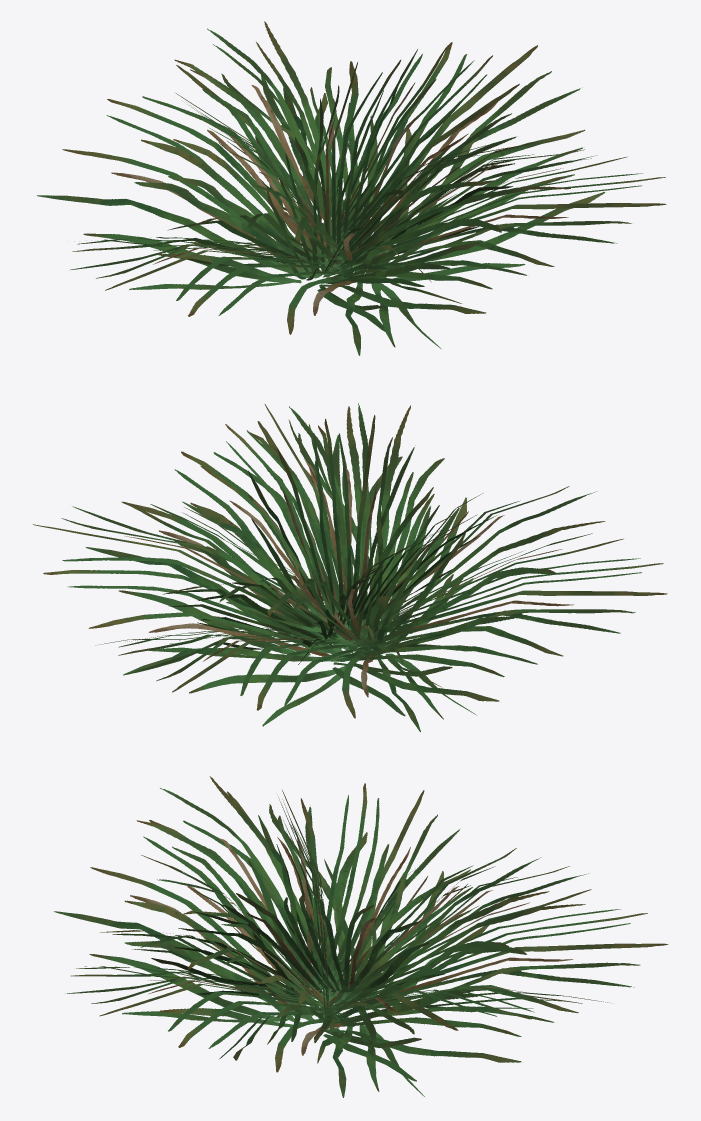
File: GrassBushel_Thin.FBX
3 renders of one model, top to bottom at view 1: azimuth 30°, elevation 25°; view 2: azimuth 150°, elevation 25°; view 3: azimuth 270°, elevation 25°, orthographic. The views are drawn at different scales.
Parts seen in each view (by area): view 1: GrassBushel_Thin; view 2: GrassBushel_Thin; view 3: GrassBushel_Thin.
Part boxes in pixels (x1,y1,x2,y2): GrassBushel_Thin: [37, 21, 666, 355]; GrassBushel_Thin: [33, 403, 667, 731]; GrassBushel_Thin: [54, 776, 668, 1097].
Bounding box in the file's own units: 262 × 107 × 265.
